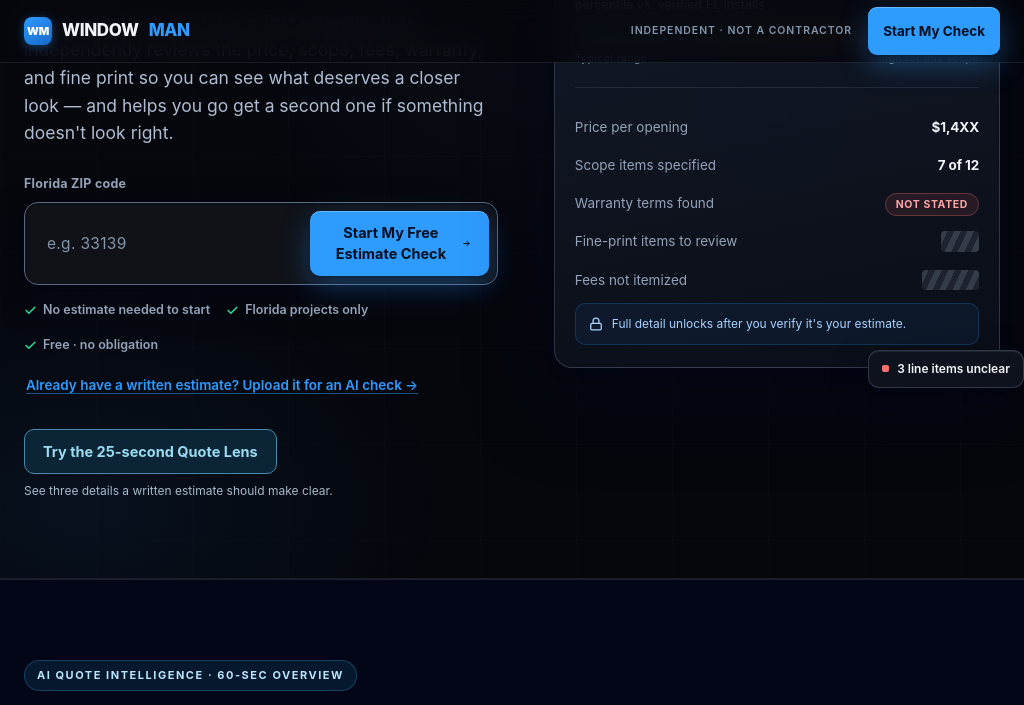
Test case: CampaignNQ3 NoQuoteLanding › opens the written-estimate handoff as a button without changing /nq3 or its query
The width and height of the screenshot is (1024, 705).
(page scrolled)
Step 1. Click the button with test id "nq3-escape-hatch" → (222, 385), box [24,361,420,409]
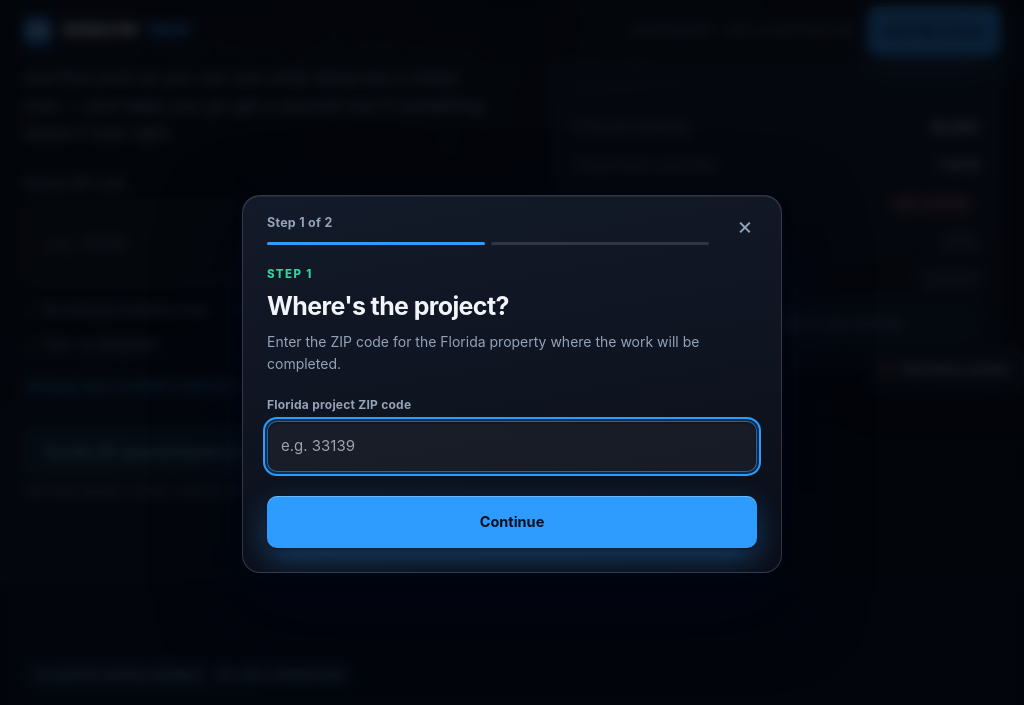
Expected: the heading "Where's the project?" is shown, [267,291,509,321]
